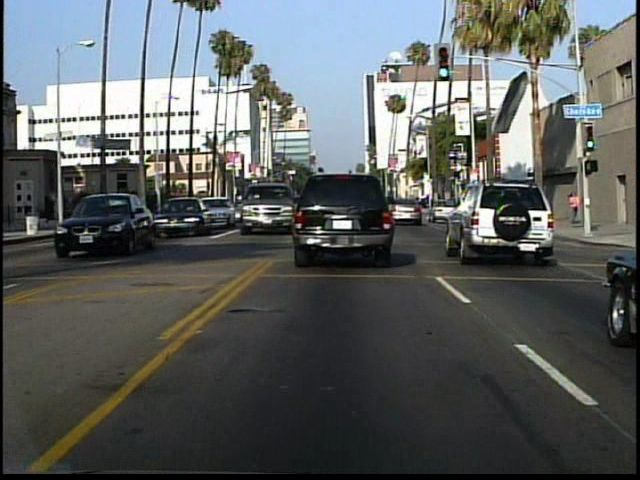person: (567, 187, 583, 227)
